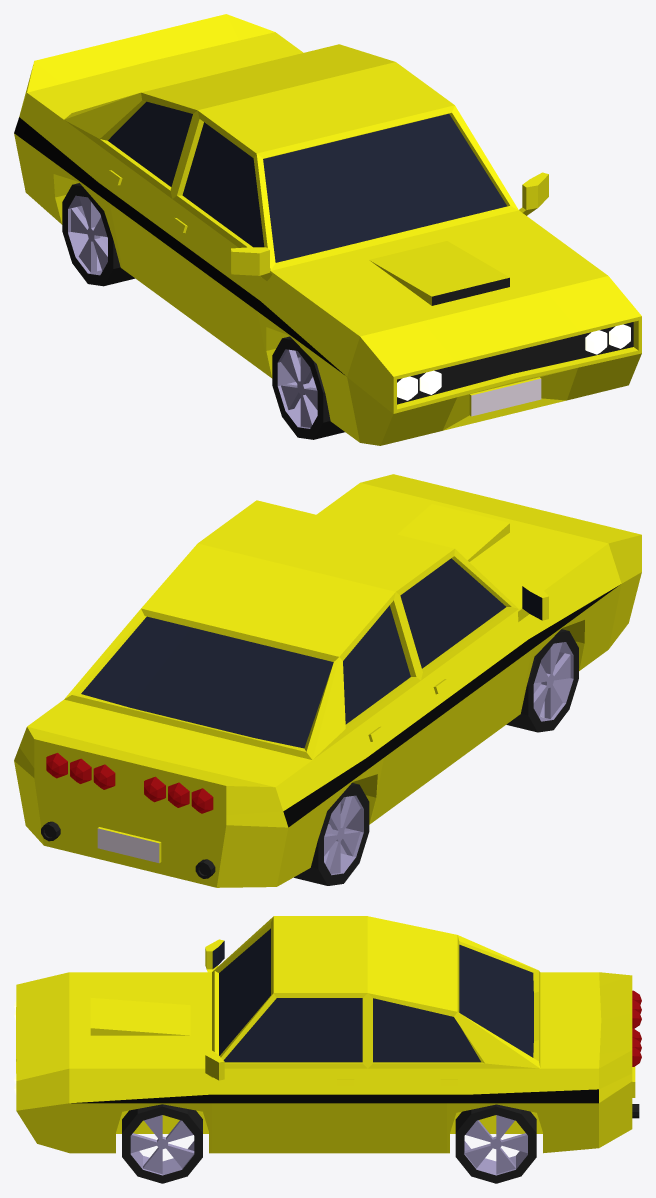
The model's file is muscle.glb.
3 renders of one model, top to bottom at view 1: azimuth 30°, elevation 25°; view 2: azimuth 150°, elevation 25°; view 3: azimuth 270°, elevation 25°, orthographic. The views are drawn at different scales.
Visible parts, largest first — view 1: Muscle, wheel_front_right, wheel_rear_right; view 2: Muscle, wheel_front_right, wheel_rear_right; view 3: Muscle, wheel_front_left, wheel_rear_left.
Boxes of the visible parts, x1,y1,x2,y2 form: Muscle: (14,14,641,445); wheel_front_right: (272,336,344,439); wheel_rear_right: (62,183,134,286); Muscle: (14,474,641,887); wheel_front_right: (506,629,578,732); wheel_rear_right: (294,783,369,885); Muscle: (14,916,641,1153); wheel_front_left: (122,1104,202,1183); wheel_rear_left: (455,1104,536,1183).
Bounding box in the file's own units: 281 × 191 × 606.
